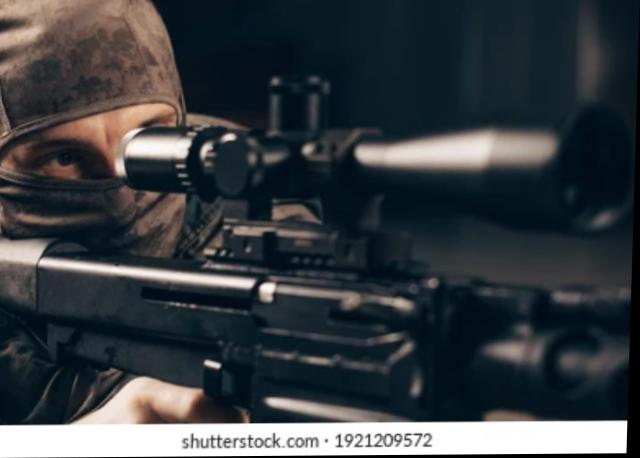other: (0, 0, 220, 418)
